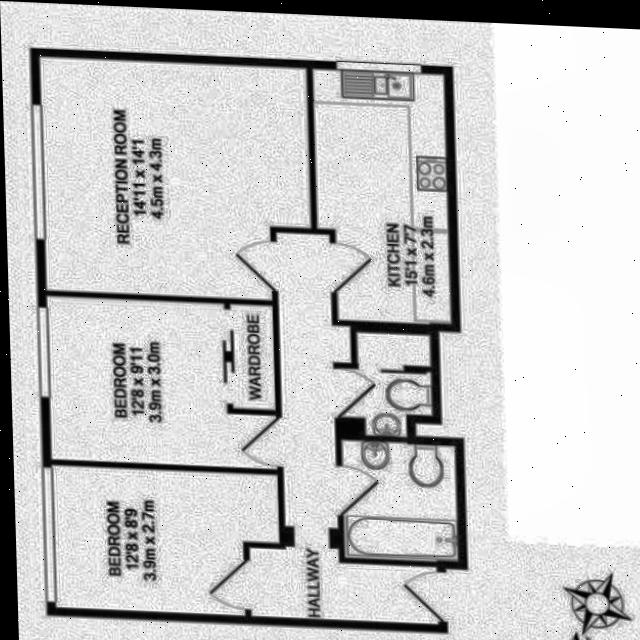room: (247, 232, 450, 623), (31, 57, 317, 300), (40, 296, 284, 467), (313, 65, 450, 327), (47, 465, 281, 616), (342, 438, 458, 565), (338, 331, 435, 437)
